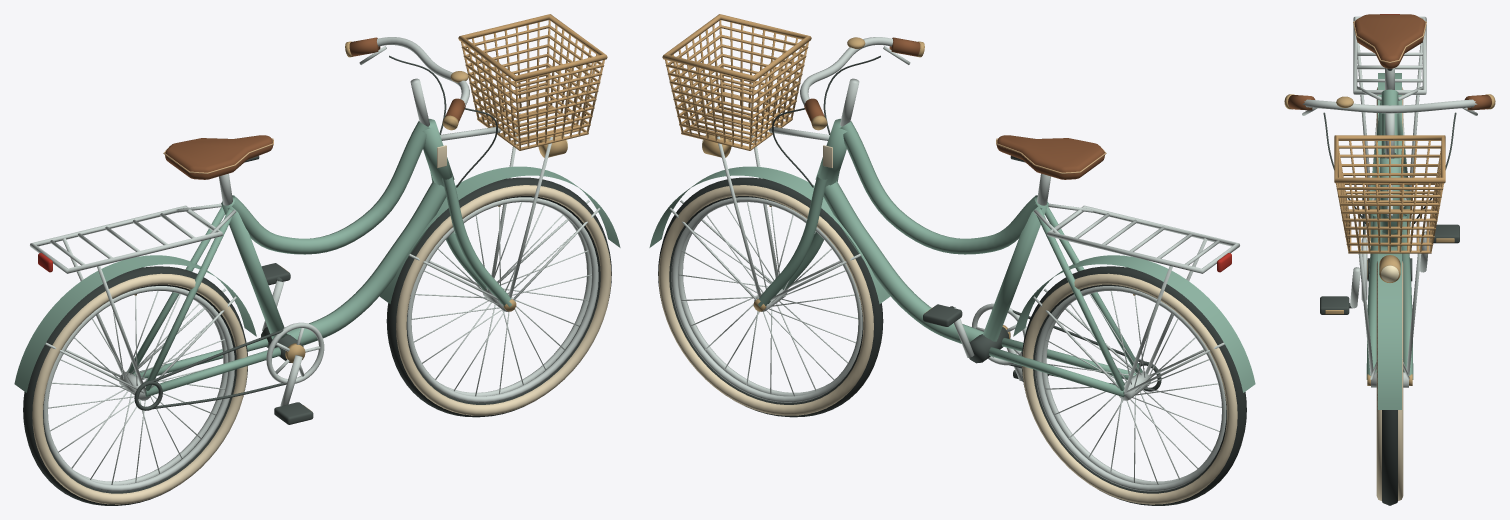
The model's file is meadow-bicycle.glb.
3 renders of one model, left to right at view 1: azimuth 30°, elevation 25°; view 2: azimuth 150°, elevation 25°; view 3: azimuth 270°, elevation 25°, orthographic. The views are drawn at different scales.
Parts seen in each view (by area): view 1: Bicycle__Enamel, Steering__Honey wicker, Wheel_Front__Brushed aluminium, Wheel_Rear__Brushed aluminium, Wheel_Front__Warm ivory, Wheel_Rear__Warm ivory, Bicycle__Brushed aluminium, Steering__Enamel, Wheel_Rear__Charcoal, Wheel_Front__Charcoal, Steering__Brushed aluminium, Bicycle__Cognac leather (+4 smaller); view 2: Bicycle__Enamel, Steering__Honey wicker, Wheel_Rear__Brushed aluminium, Wheel_Front__Brushed aluminium, Wheel_Front__Warm ivory, Wheel_Rear__Warm ivory, Bicycle__Brushed aluminium, Wheel_Rear__Charcoal, Wheel_Front__Charcoal, Steering__Enamel, Steering__Brushed aluminium, Bicycle__Cognac leather (+4 smaller); view 3: Steering__Honey wicker, Steering__Enamel, Steering__Brushed aluminium, Bicycle__Cognac leather, Bicycle__Brushed aluminium, Bicycle__Enamel, Wheel_Front__Warm ivory, Wheel_Front__Charcoal, Crank__Brushed aluminium, Steering__Cognac leather, Steering__Champagne brass, Pedal_Left__Mechanicals (+3 smaller).
Boxes of the visible parts, x1,y1,x2,y2 form: Bicycle__Enamel: (14,118,454,397); Steering__Honey wicker: (458,14,607,150); Wheel_Front__Brushed aluminium: (407,197,598,402); Wheel_Rear__Brushed aluminium: (43,286,234,491); Wheel_Front__Warm ivory: (396,185,611,415); Wheel_Rear__Warm ivory: (32,273,247,504); Bicycle__Brushed aluminium: (30,173,236,394); Steering__Enamel: (379,166,620,306); Wheel_Rear__Charcoal: (23,266,247,505); Wheel_Front__Charcoal: (386,177,611,417); Steering__Brushed aluminium: (359,37,600,300); Bicycle__Cognac leather: (165,135,273,179); Bicycle__Enamel: (815,118,1255,397); Steering__Honey wicker: (662,14,811,150); Wheel_Rear__Brushed aluminium: (1035,286,1226,491); Wheel_Front__Brushed aluminium: (671,197,862,402); Wheel_Front__Warm ivory: (658,185,873,415); Wheel_Rear__Warm ivory: (1022,273,1237,504); Bicycle__Brushed aluminium: (1033,173,1239,394); Wheel_Rear__Charcoal: (1022,266,1246,505); Wheel_Front__Charcoal: (658,177,883,417); Steering__Enamel: (649,166,890,306); Steering__Brushed aluminium: (669,37,910,300); Bicycle__Cognac leather: (996,135,1104,179); Steering__Honey wicker: (1334,135,1445,253); Steering__Enamel: (1366,214,1413,409); Steering__Brushed aluminium: (1302,99,1477,379); Bicycle__Cognac leather: (1354,14,1425,68); Bicycle__Brushed aluminium: (1353,16,1426,200); Bicycle__Enamel: (1369,73,1410,246); Wheel_Front__Warm ivory: (1376,261,1403,500); Wheel_Front__Charcoal: (1382,410,1397,505); Crank__Brushed aluminium: (1350,231,1429,308); Steering__Cognac leather: (1288,95,1491,110); Steering__Champagne brass: (1284,94,1495,282); Pedal_Left__Mechanicals: (1320,296,1352,314).
Size of the model in its own units: 1.94 by 1.17 by 0.6103.
